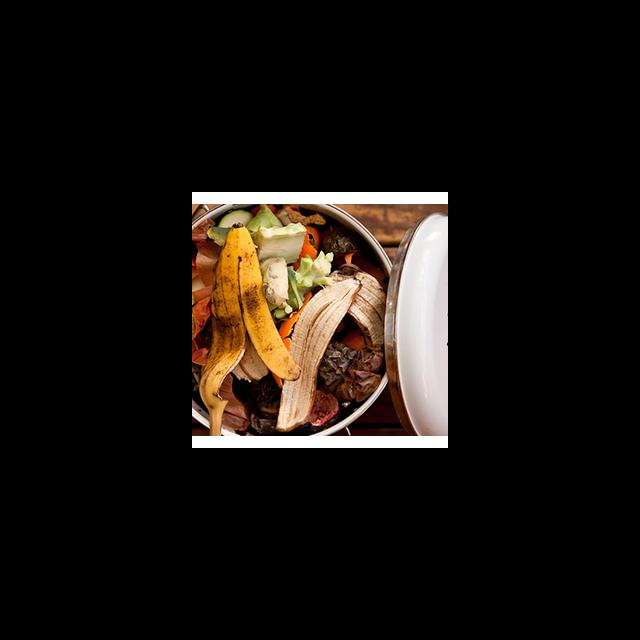food_waste: (195, 211, 379, 428)
